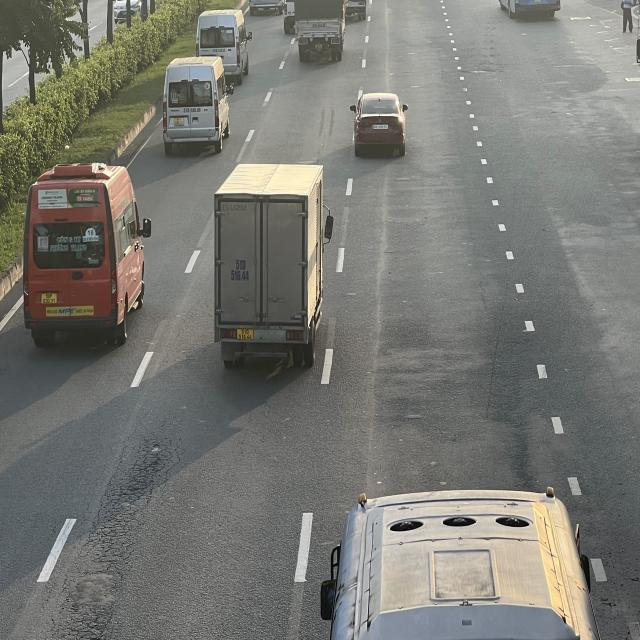car: (348, 92, 408, 159)
coach: (320, 484, 611, 637)
truck: (216, 167, 337, 374), (296, 0, 347, 63)
van: (18, 160, 148, 340), (164, 56, 233, 154), (197, 8, 251, 80)
